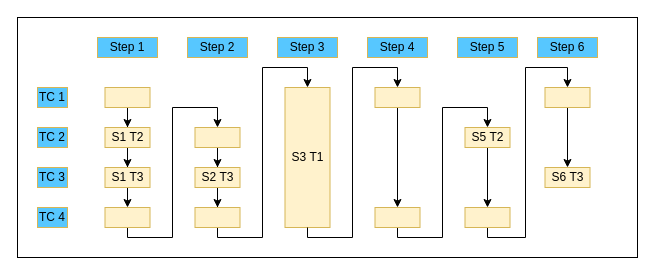
Image size: 655x275. Some labels were removed from this diagram. The shapes that lost their labels are listed below. From the top down, each one's box as (x1, y1, x2, y2) in pixels, then its label:
(104, 86, 150, 108): S1 T1
(374, 86, 420, 108): S4 T1
(544, 86, 590, 108): S6 T1
(194, 126, 240, 148): S2 T2
(104, 206, 150, 228): S1 T4
(194, 206, 240, 228): S2 T4
(374, 206, 420, 228): S4 T4
(464, 206, 510, 228): S5 T4
